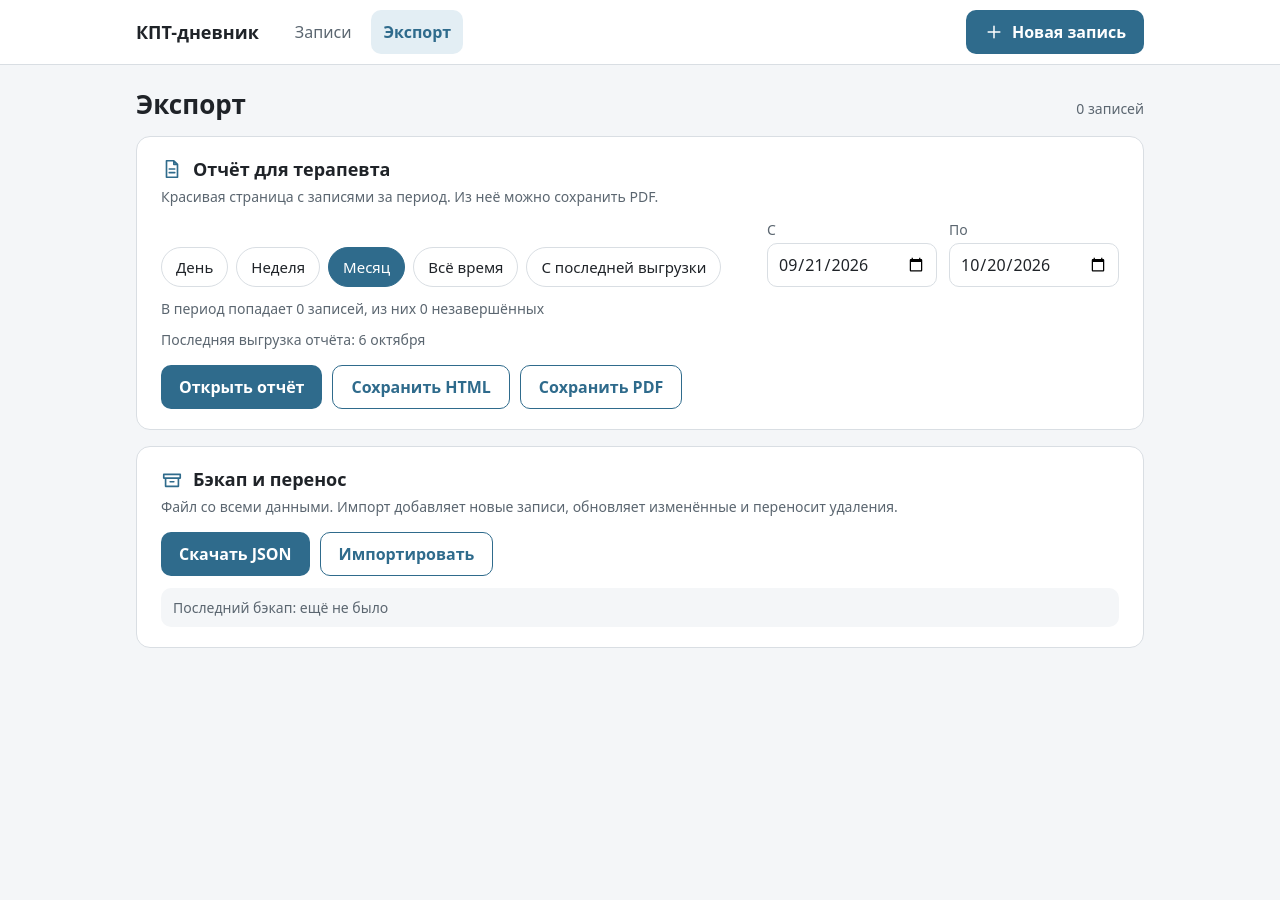
Test: since export uses the last export date
expect the text "Последняя выгрузка отчёта: 6 октября" is shown: met, box [161,330,425,349]
Click the button "С последней выгрузки".
click(624, 267)  # box [526,247,721,287]
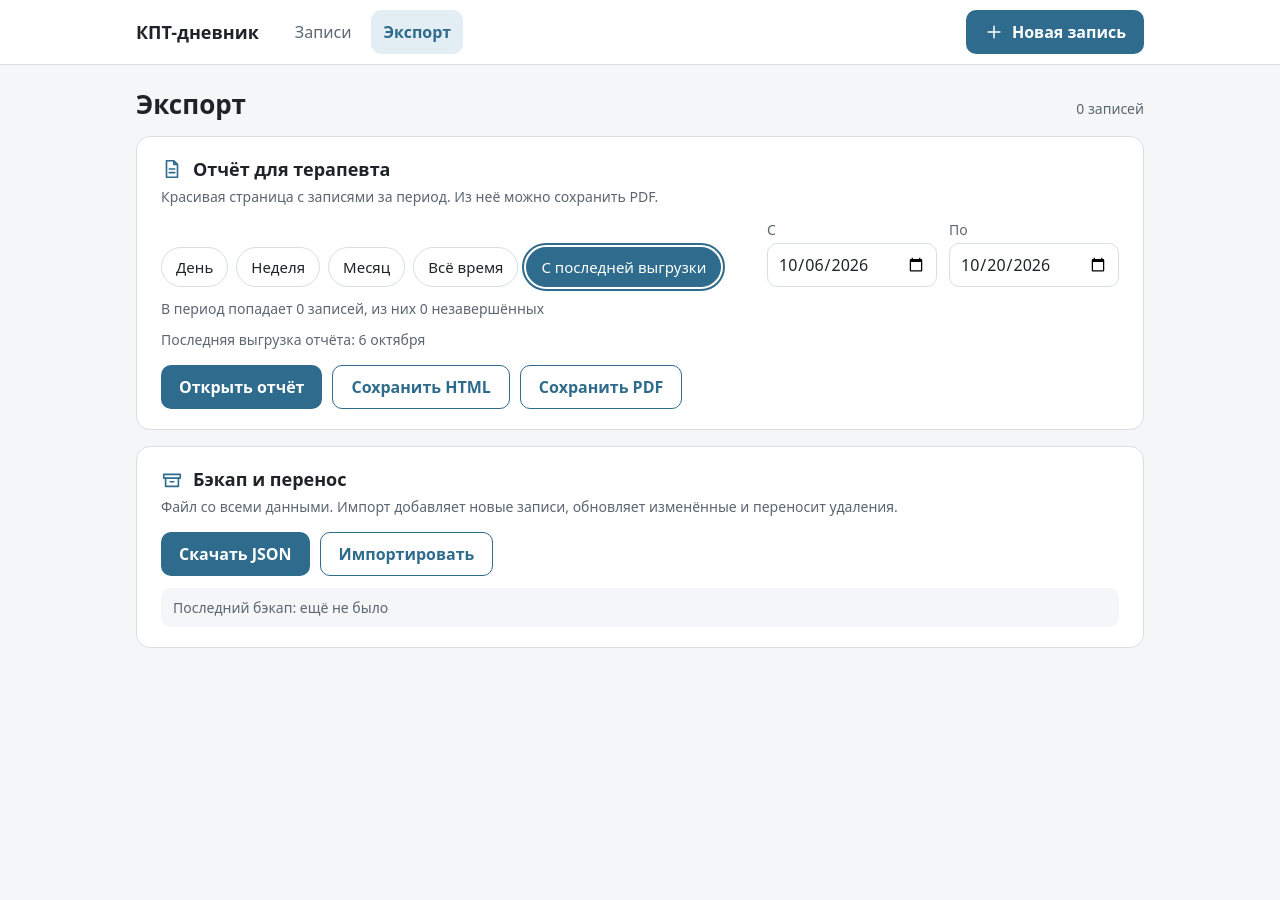
expect the date field labelled "С" holds "2026-10-06": met, box [767,243,937,287]
